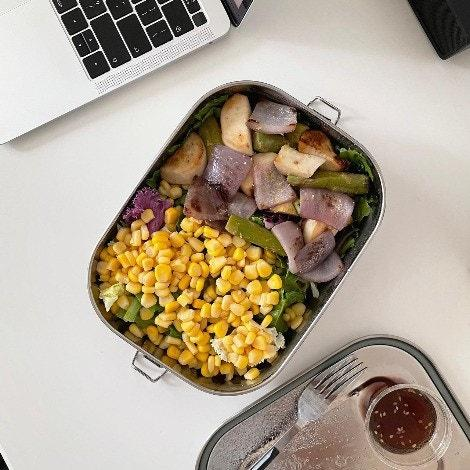Lunch Box: (90, 82, 383, 394)
